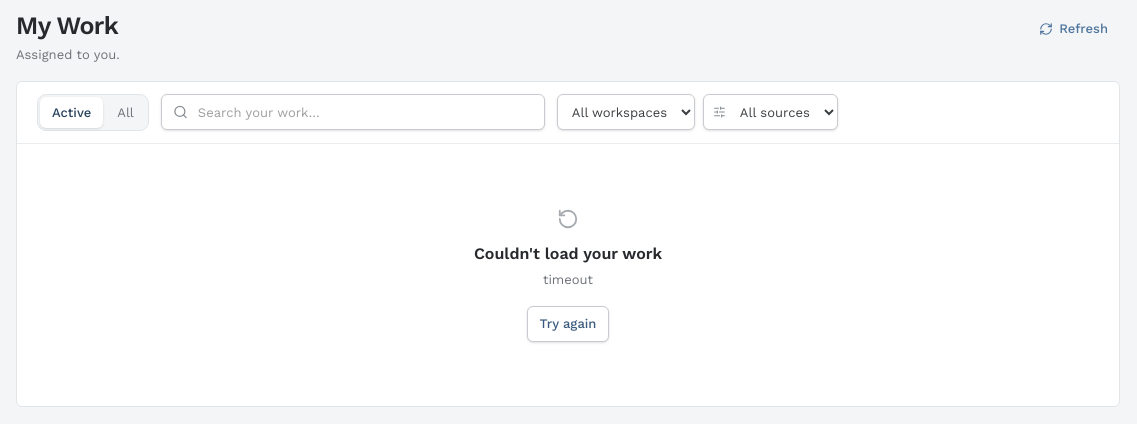
MyWorkPage › fails the whole page and retries the complete personal request
The image size is (1137, 424).
expect the message "Couldn't load your work timeout Try again" is shown: met, box [474, 208, 662, 342]
expect the text "Retry this work" is not shown: met
Click the button "Try again": (568,324) [527, 306, 609, 342]
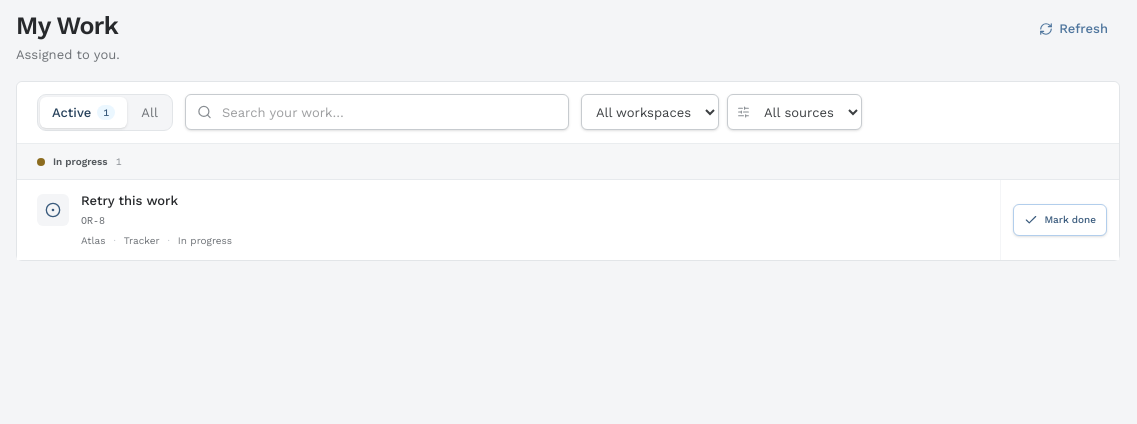
expect the text "Retry this work" is shown: met, box [81, 193, 178, 208]
